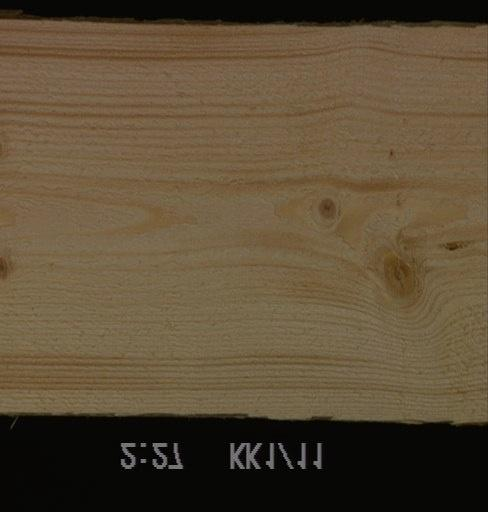sound_knot: (377, 254, 421, 301), (314, 193, 339, 227), (0, 255, 13, 284)
